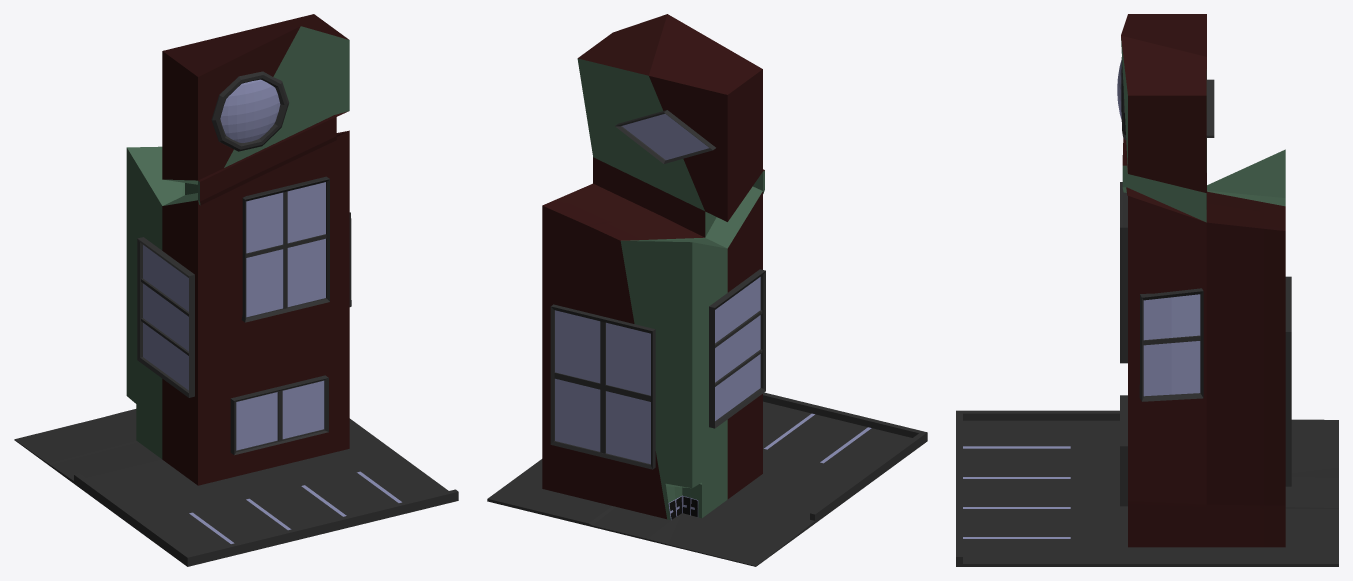
The model's file is skyscraper2.obj.
The picture shows the model from 3 angles, left to right: view 1: azimuth 30°, elevation 25°; view 2: azimuth 150°, elevation 25°; view 3: azimuth 270°, elevation 25°; orthographic projection. The views are drawn at different scales.
Visible parts, largest first — view 1: Cube; view 2: Cube; view 3: Cube.
Part boxes in pixels (x1=…): Cube: x1=14, y1=14, x2=458, y2=566; Cube: x1=487, y1=14, x2=927, y2=566; Cube: x1=956, y1=14, x2=1338, y2=566.
Size of the model in its own units: 11.79 by 18.29 by 13.05.
